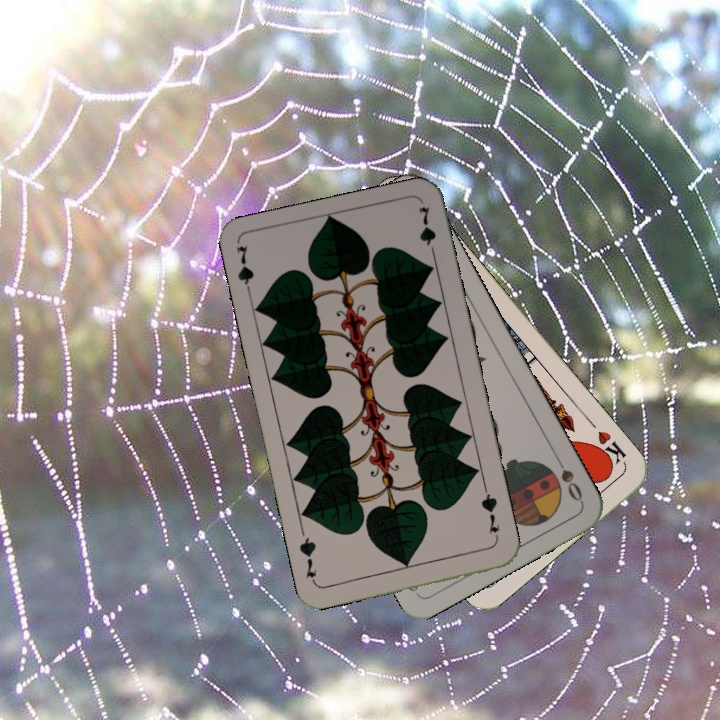G7: (477, 485, 502, 543), (232, 241, 256, 301)
HK: (589, 426, 629, 471)
SO: (550, 450, 585, 505)
